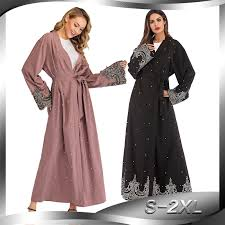middle_eastern_Female: (62, 11, 88, 38), (149, 11, 168, 34)
